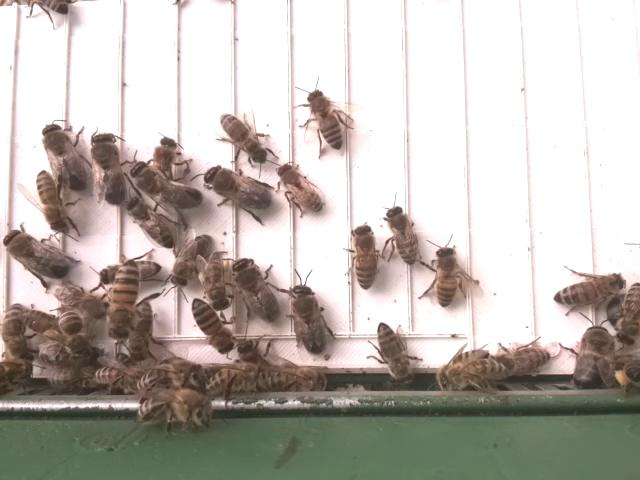Drone: (2, 224, 73, 281), (39, 119, 92, 194), (131, 159, 205, 210), (230, 255, 283, 326), (201, 163, 273, 213), (88, 127, 127, 208), (287, 281, 328, 357), (573, 324, 618, 390)
Worker: (300, 84, 356, 153), (22, 167, 74, 235), (369, 322, 426, 382), (105, 259, 144, 342), (552, 265, 622, 311), (426, 241, 474, 307), (123, 194, 179, 250), (275, 160, 328, 219), (164, 234, 218, 291), (214, 114, 270, 167), (379, 201, 421, 271), (189, 294, 234, 356), (434, 356, 507, 390), (347, 219, 379, 295), (0, 301, 37, 366), (201, 254, 231, 313), (260, 368, 327, 394), (59, 308, 93, 354)
